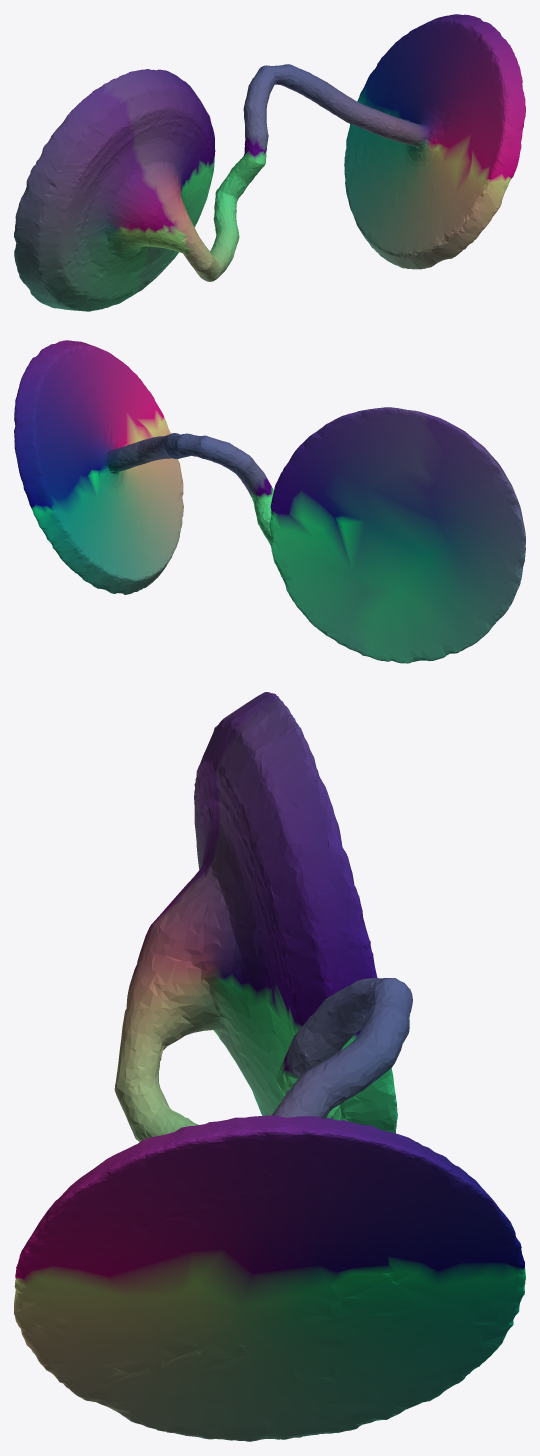
File: lamp-7.off.obj
3 views of the same model, one above another, from view 1: azimuth 30°, elevation 25°; view 2: azimuth 150°, elevation 25°; view 3: azimuth 270°, elevation 25° (orthographic). The views are drawn at different scales.
Bounding box in the file's own units: 1.69 × 0.8164 × 0.7932.
